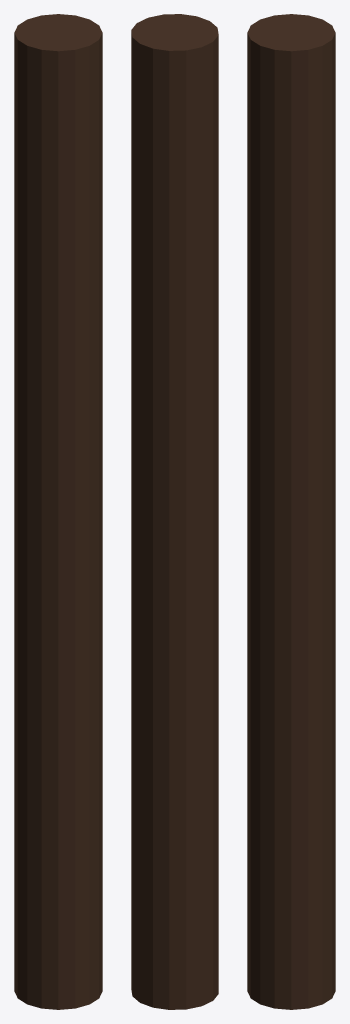
Rendered from prop_lamp_plaza_pole.glb.
3 views of the same model, side by side, from view 1: azimuth 90°, elevation 25°; view 2: azimuth 150°, elevation 25°; view 3: azimuth 270°, elevation 25° (orthographic).
Parts seen in each view (by area): view 1: PROP_Lamp_Plaza_Pole; view 2: PROP_Lamp_Plaza_Pole; view 3: PROP_Lamp_Plaza_Pole.
Boxes of the visible parts, box(x1,y1,x2,y2) form: PROP_Lamp_Plaza_Pole: box(14, 14, 102, 1009); PROP_Lamp_Plaza_Pole: box(131, 14, 218, 1009); PROP_Lamp_Plaza_Pole: box(247, 14, 335, 1009).
Size of the model in its own units: 0.35 by 4.2 by 0.35.
